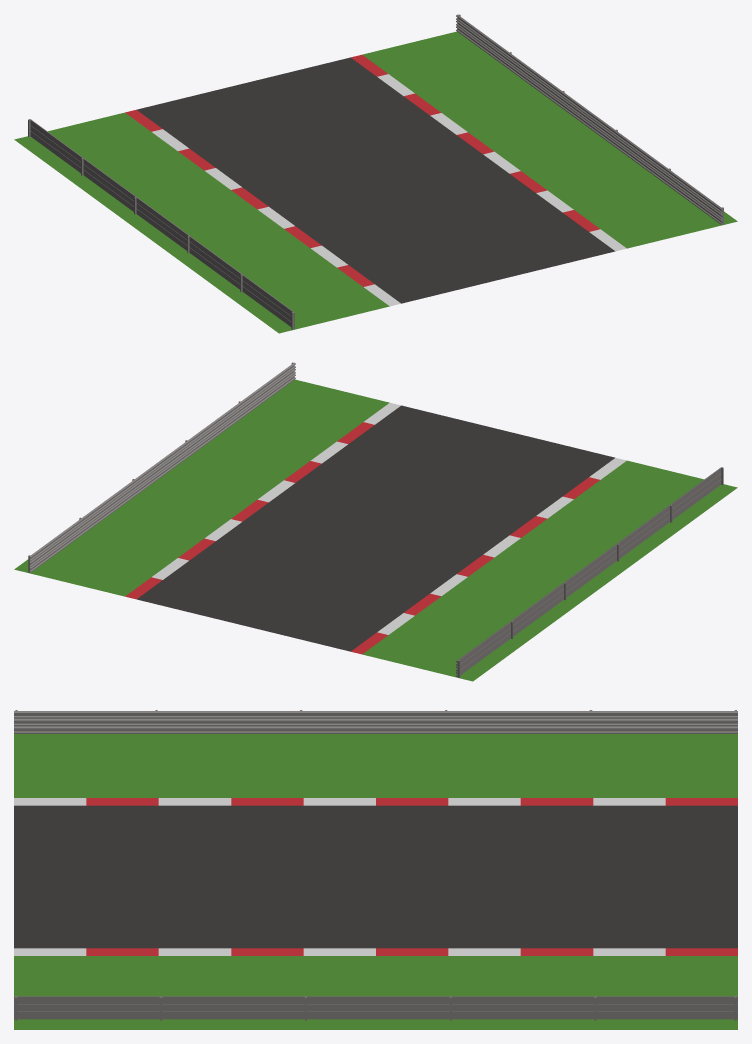
Rendered from tiles-nb-tile-race-track-straight-curbs-nb.glb.
3 views of the same model, one above another, from view 1: azimuth 30°, elevation 25°; view 2: azimuth 150°, elevation 25°; view 3: azimuth 270°, elevation 25° (orthographic). The views are drawn at different scales.
Parts seen in each view (by area): view 1: tile-race-track-straight-curbs-nb; view 2: tile-race-track-straight-curbs-nb; view 3: tile-race-track-straight-curbs-nb.
Part boxes in pixels (x1,y1,x2,y2): tile-race-track-straight-curbs-nb: [14, 14, 737, 333]; tile-race-track-straight-curbs-nb: [14, 362, 737, 681]; tile-race-track-straight-curbs-nb: [14, 710, 737, 1029].
Bounding box in the file's own units: 30 × 1.05 × 30.
